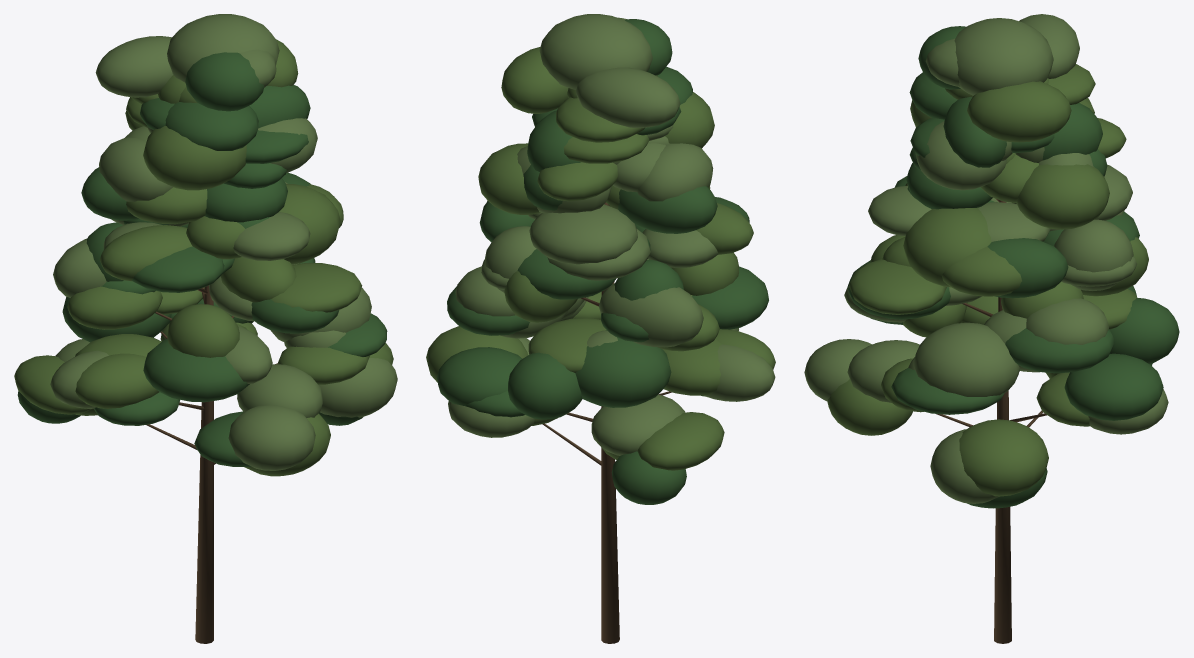
Rendered from SM_Pine.fbx.
3 views of the same model, side by side, from view 1: azimuth 30°, elevation 25°; view 2: azimuth 150°, elevation 25°; view 3: azimuth 270°, elevation 25° (orthographic).
Parts seen in each view (by area): view 1: SM_Pine; view 2: SM_Pine; view 3: SM_Pine.
Part boxes in pixels (x1=…): SM_Pine: x1=14, y1=14, x2=397, y2=643; SM_Pine: x1=426, y1=14, x2=775, y2=643; SM_Pine: x1=804, y1=14, x2=1179, y2=643.
Size of the model in its own units: 668 by 637 by 1164.
